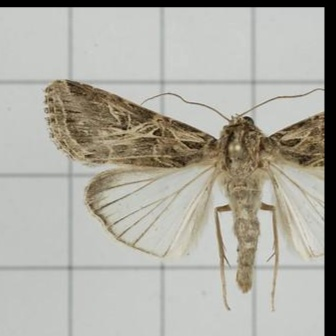Spodoptera litura: (42, 79, 324, 312)
